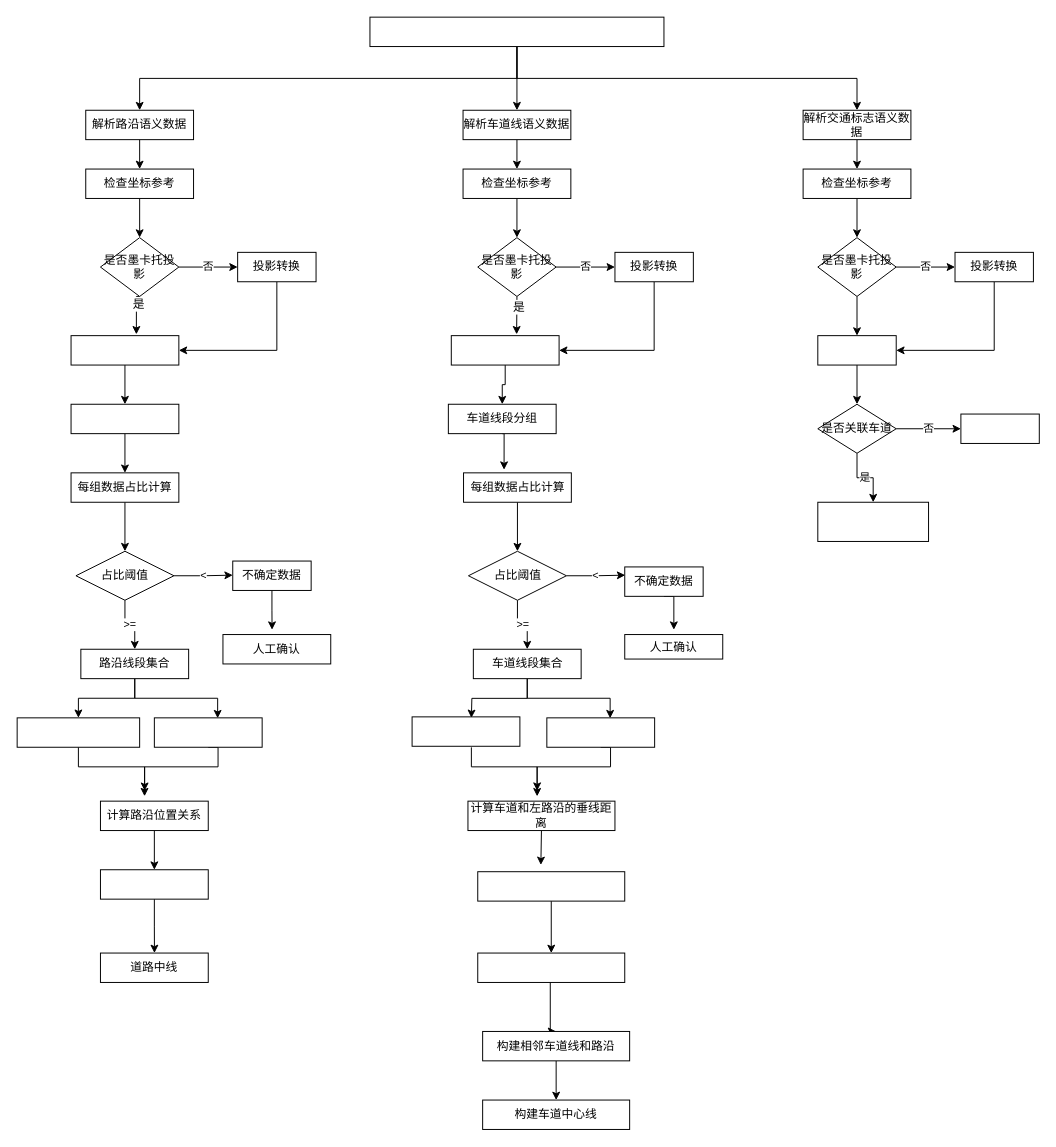
The diagram is 1056 pixels wide and 1147 high, and some of its shapes have lost their labels. The shapes that lost their labels are listed below. From the top down, each one's centre as x and y in pixels, then its label:
[516,31]: 输入geojson数据
[124,350]: 计算路沿线段斜率和截距
[504,350]: 计算车道线段斜率和截距
[856,350]: 构建点数据
[124,418]: 路沿线段分组
[999,428]: 完成
[873,521]: 根据点到车道中心线垂线距离，初步判断
[78,732]: 路沿1
[207,732]: 路沿2
[465,731]: 车道1
[600,732]: 车道2....n
[153,884]: 左路沿、右路沿
[551,886]: 距离排序（小->大）
[551,967]: 车道线编号
